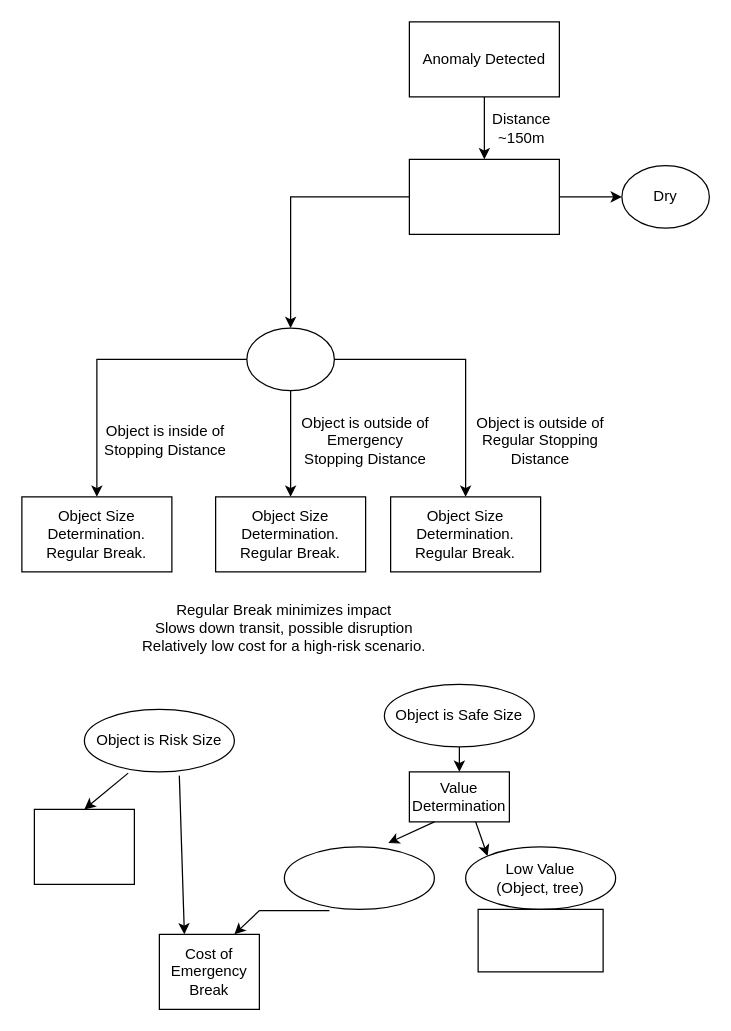
The diagram is 731 pixels wide and 1031 high, and some of its shapes have lost their labels. The shapes that lost their labels are listed below. From the top down, each one's centre as x and y in pixels, then its label:
At point (483, 196): "Track Quality calculation".
At point (290, 359): "Wet".
At point (83, 846): "Chance of Derailment".
At point (358, 877): "High Value (Human, Animal)".
At point (540, 940): "Can we be sure? Can we afford to be wrong?".
